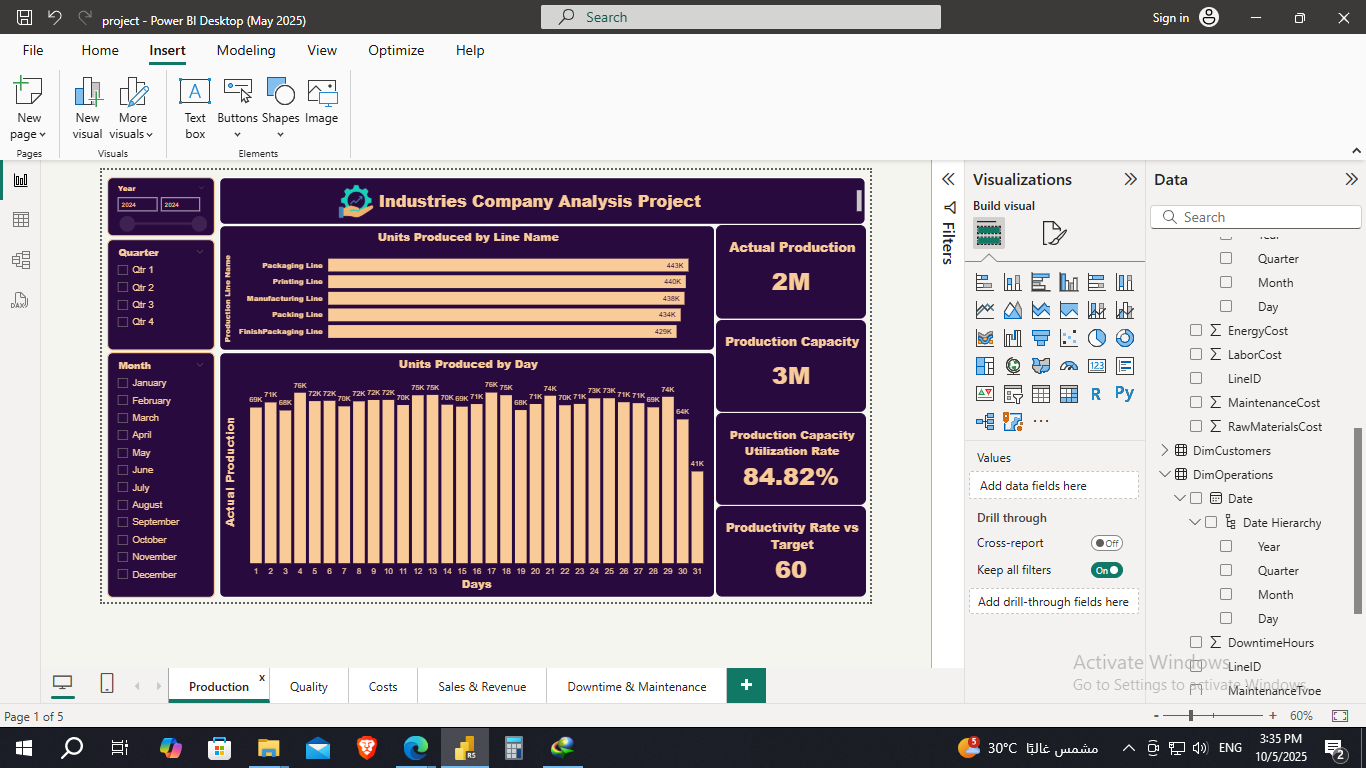

What the dashboard file says about the page in this screenshot:
{"tool":"powerbi","page":{"name":"Production","canvas":[1280,720],"ordinal":0},"visuals":[{"type":"textbox","box":[194.9,11.8,1078.4,80],"z":0,"group":"g1"},{"type":"card","title":"Actual Production","fields":{"Values":["A_Measure_Table.ActualProduction"]},"box":[1023,92.4,250.3,156],"z":0},{"type":"slicer","title":"Year","fields":{"Values":["DimProduction.Date.Variation.Date Hierarchy.Year"]},"box":[8.4,11.8,179.7,99.1],"z":1000},{"type":"image","box":[384.7,14.7,77.7,74.6],"z":1000,"group":"g1"},{"type":"columnChart","title":"Units Produced by Day","fields":{"Category":["DimProduction.Date.Variation.Date Hierarchy.Day"],"Y":["Sum(DimProduction.UnitsProduced)"]},"box":[195,303.3,827,410],"z":2000},{"type":"clusteredBarChart","title":"Units Produced by Line Name","fields":{"Category":["FactProductionLines.LineName"],"Y":["Sum(DimProduction.UnitsProduced)"]},"box":[195,91.7,827,210],"z":3000},{"type":"card","title":"Production Capacity","fields":{"Values":["A_Measure_Table.ProductionCapacity"]},"box":[1023.3,250,250,153],"z":4000},{"type":"card","title":"Production Capacity Utilization Rate ","fields":{"Values":["A_Measure_Table.%ProductionCapacity"]},"box":[1023.3,405,250,153],"z":5000},{"type":"card","title":"Productivity Rate vs Target","fields":{"Values":["A_Measure_Table.ProductivityRateTarget"]},"box":[1023.3,560,250,151],"z":6000},{"type":"slicer","title":"Year","fields":{"Values":["DimProduction.Date.Variation.Date Hierarchy.Quarter"]},"box":[8.4,114.2,179.7,186.5],"z":7000},{"type":"slicer","title":"Year","fields":{"Values":["DimProduction.Date.Variation.Date Hierarchy.Month"]},"box":[8.4,304,179.7,409.9],"z":8000},{"type":"group","id":"g1","title":"Group 1","box":[194.9,11.8,1078.4,80],"z":9002}]}

Visuals, with their boxes on the page's 1280x720 design canvas (x1, y1, x2, y2). These are canvas units, not pixel positions in the 1366x768 screenshot, which may show the page scaled, cropped or inside an application window:
textbox: x1=195, y1=12, x2=1273, y2=92
"Actual Production" card: x1=1023, y1=92, x2=1273, y2=248
"Year" slicer: x1=8, y1=12, x2=188, y2=111
image: x1=385, y1=15, x2=462, y2=89
"Units Produced by Day" columnChart: x1=195, y1=303, x2=1022, y2=713
"Units Produced by Line Name" clusteredBarChart: x1=195, y1=92, x2=1022, y2=302
"Production Capacity" card: x1=1023, y1=250, x2=1273, y2=403
"Production Capacity Utilization Rate " card: x1=1023, y1=405, x2=1273, y2=558
"Productivity Rate vs Target" card: x1=1023, y1=560, x2=1273, y2=711
"Year" slicer: x1=8, y1=114, x2=188, y2=301
"Year" slicer: x1=8, y1=304, x2=188, y2=714
"Group 1" group: x1=195, y1=12, x2=1273, y2=92
